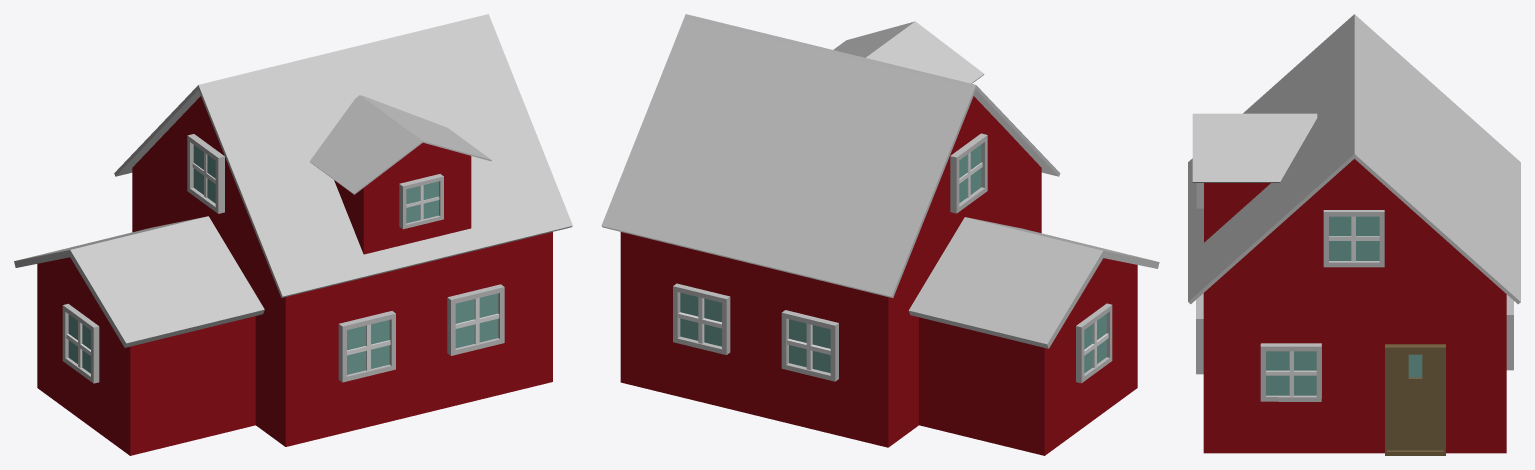
File: house02.fbx
3 views of the same model, side by side, from view 1: azimuth 30°, elevation 25°; view 2: azimuth 150°, elevation 25°; view 3: azimuth 270°, elevation 25° (orthographic).
Parts seen in each view (by area): view 1: Cube.009, Cube, Cube.003, Cube.008, Cube.004, Cube.012, Cube.011, Plane.002, Cube.002, Cube.001, Plane.003, Cube.013 (+7 smaller); view 2: Cube.010, Cube, Cube.003, Cube.007, Cube.012, Cube.009, Cube.016, Cube.017, Cube.013, Plane, Plane.001, Cube.006 (+4 smaller); view 3: Cube, Cube.010, Cube.009, Cube.011, Cube.014, Cube.004, Plane.005, Plane.009, Cube.015, Cube.034, Cube.002, Cube.016 (+1 smaller).
Part boxes in pixels (x1,y1,x2,y2): Cube.009: [197, 14, 572, 297]; Cube: [132, 96, 552, 446]; Cube.003: [37, 257, 255, 455]; Cube.008: [68, 216, 264, 347]; Cube.004: [334, 143, 471, 254]; Cube.012: [309, 95, 422, 194]; Cube.011: [360, 95, 491, 161]; Plane.002: [455, 293, 498, 348]; Cube.002: [447, 284, 504, 355]; Cube.001: [338, 311, 395, 382]; Plane.003: [347, 320, 389, 374]; Cube.013: [187, 134, 224, 213]; Cube.010: [601, 17, 975, 297]; Cube: [620, 96, 1041, 447]; Cube.003: [919, 258, 1137, 455]; Cube.007: [908, 217, 1104, 348]; Cube.012: [866, 21, 984, 83]; Cube.009: [684, 14, 1060, 176]; Cube.016: [673, 283, 730, 354]; Cube.017: [781, 310, 838, 381]; Cube.013: [950, 133, 987, 213]; Plane: [680, 292, 721, 346]; Plane.001: [789, 319, 830, 372]; Cube.006: [1076, 303, 1112, 383]; Cube: [1203, 159, 1506, 453]; Cube.010: [1352, 17, 1520, 304]; Cube.009: [1188, 14, 1357, 304]; Cube.011: [1192, 113, 1317, 182]; Cube.014: [1385, 344, 1445, 455]; Cube.004: [1204, 183, 1270, 242]; Plane.005: [1266, 351, 1316, 395]; Plane.009: [1329, 216, 1379, 260]; Cube.015: [1260, 343, 1321, 401]; Cube.034: [1323, 210, 1384, 267]; Cube.002: [1196, 293, 1203, 374]; Cube.016: [1506, 294, 1513, 370].
Size of the model in its own units: 1563 by 1104 by 1091.
